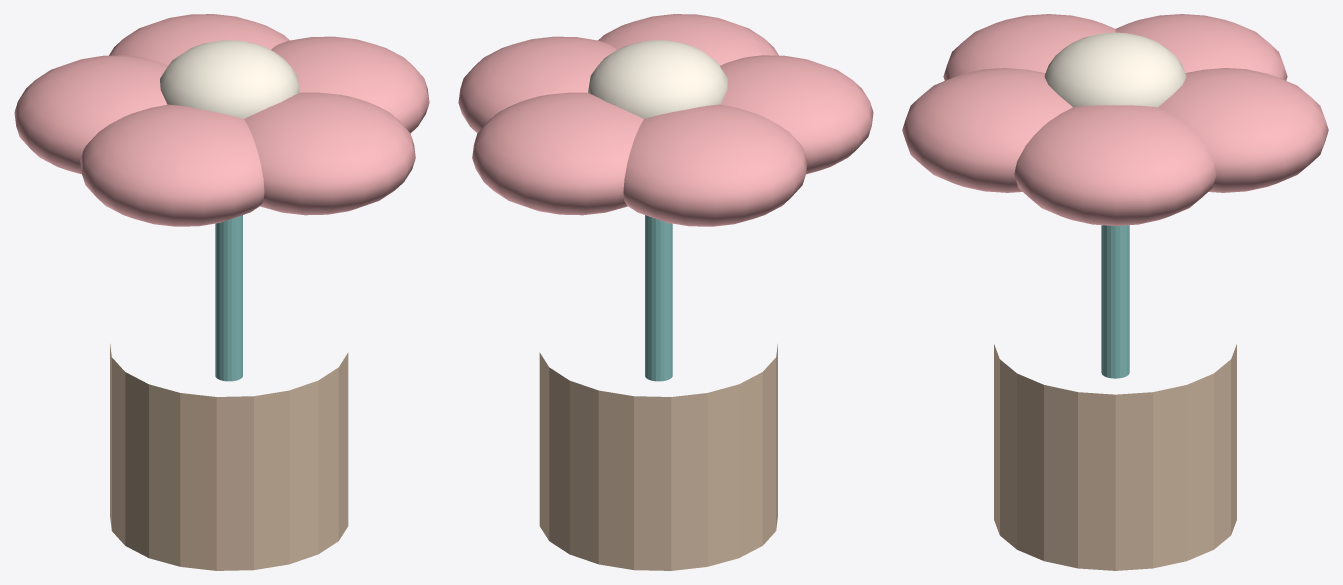
File: plant-berry.glb
The picture shows the model from 3 angles, left to right: view 1: azimuth 30°, elevation 25°; view 2: azimuth 150°, elevation 25°; view 3: azimuth 270°, elevation 25°; orthographic projection.
Parts seen in each view (by area): view 1: pot, petal2, petal1, petal3, petal0, center, petal4, stem; view 2: pot, petal3, petal4, petal2, petal0, center, petal1, stem; view 3: pot, petal0, petal1, petal4, center, petal2, petal3, stem.
Part boxes in pixels (<box>): pot: <box>110,344,348,570</box>; petal2: <box>80,104,264,226</box>; petal1: <box>244,92,415,215</box>; petal3: <box>14,55,167,174</box>; petal0: <box>271,36,429,133</box>; center: <box>160,40,299,118</box>; petal4: <box>109,14,289,65</box>; stem: <box>215,215,242,381</box>; pot: <box>539,344,777,570</box>; petal3: <box>623,104,807,226</box>; petal4: <box>472,92,643,215</box>; petal2: <box>720,55,873,174</box>; petal0: <box>458,36,616,133</box>; center: <box>588,40,727,118</box>; petal1: <box>598,14,778,65</box>; stem: <box>645,215,672,381</box>; pot: <box>994,344,1236,570</box>; petal0: <box>1014,105,1216,225</box>; petal1: <box>902,68,1072,192</box>; petal4: <box>1158,68,1328,192</box>; center: <box>1044,32,1186,107</box>; petal2: <box>943,14,1115,80</box>; petal3: <box>1115,14,1287,80</box>; stem: <box>1101,225,1129,378</box>.
Bounding box in the file's own units: 0.5133 × 0.65 × 0.5263.
